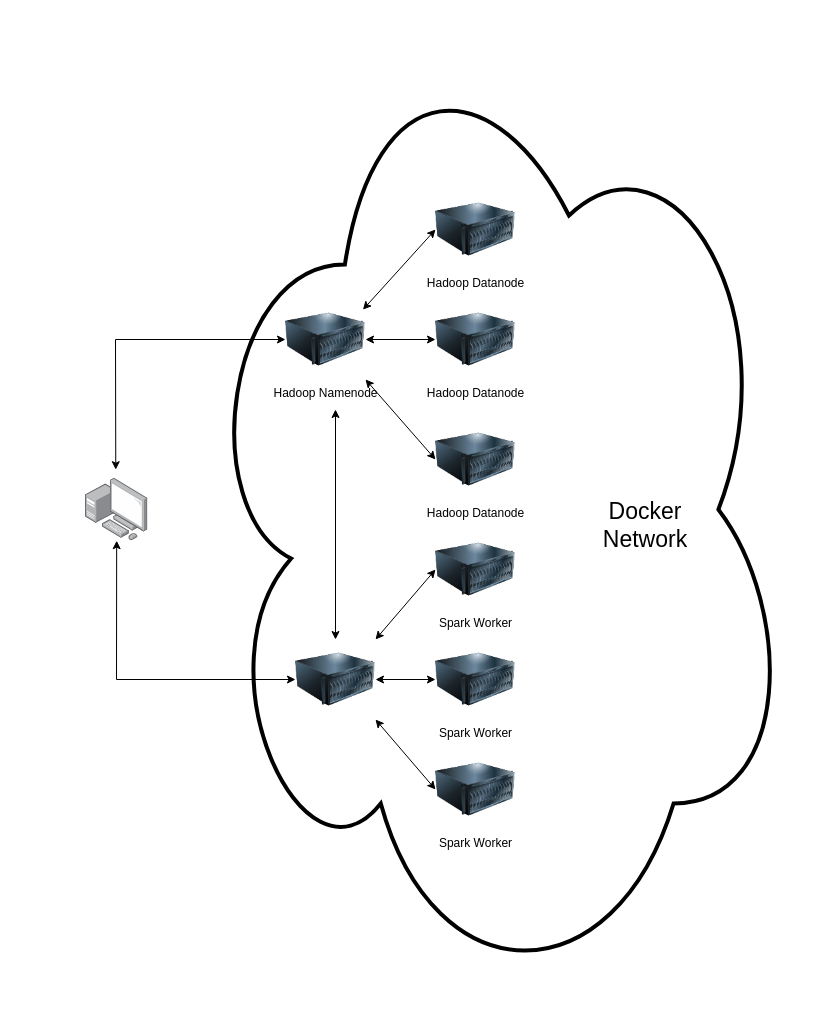
Image size: 813x1018. Some labels were removed from this diagram. The shapes that lost their labels are listed below. From the top down, each one's centre as x and y in pixels, then its label:
At (x=116, y=509): "Jupyter Notebook and PySpark Client".
At (x=335, y=679): "Spark Master".
